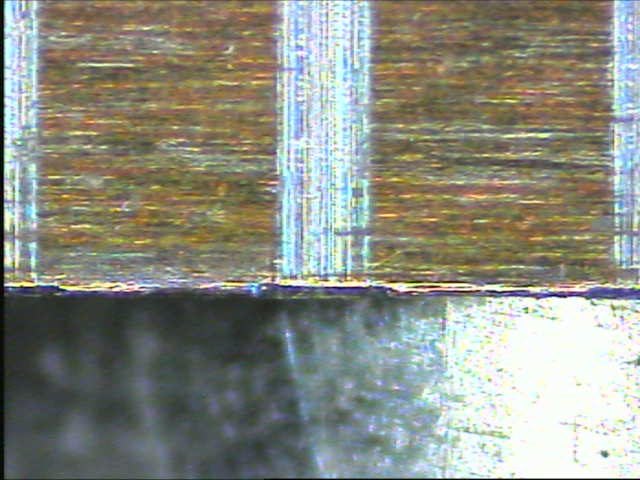line: (271, 1, 376, 276)
